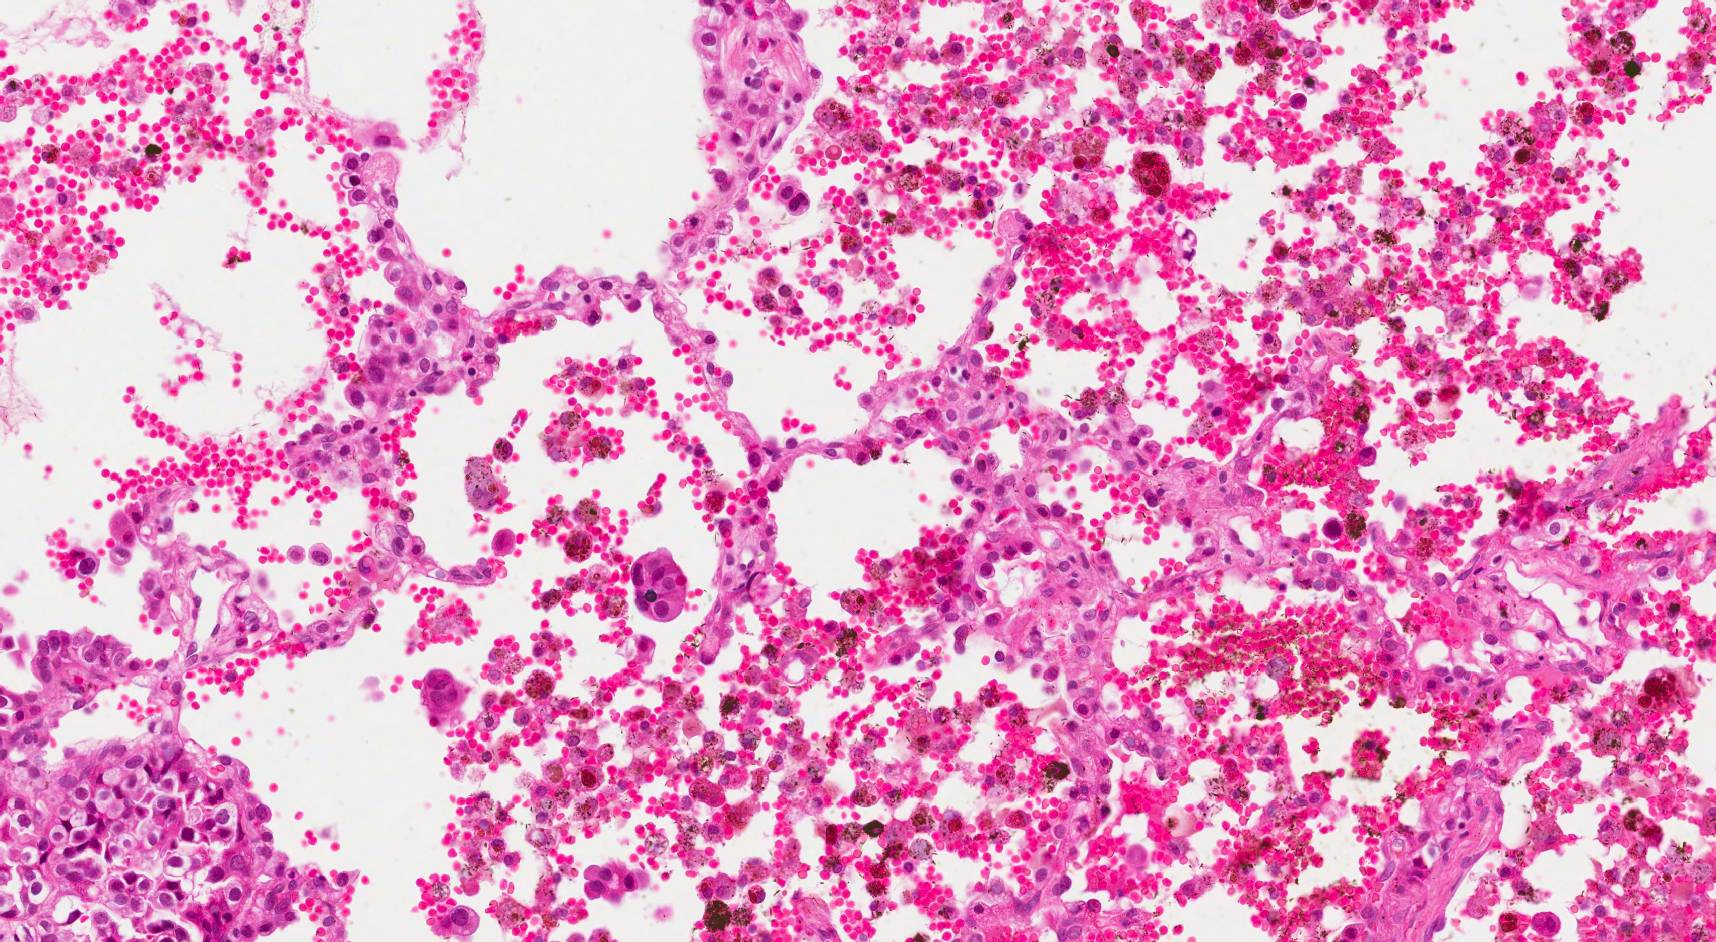stas: (625, 547, 691, 621), (582, 860, 652, 905), (420, 666, 469, 728)
